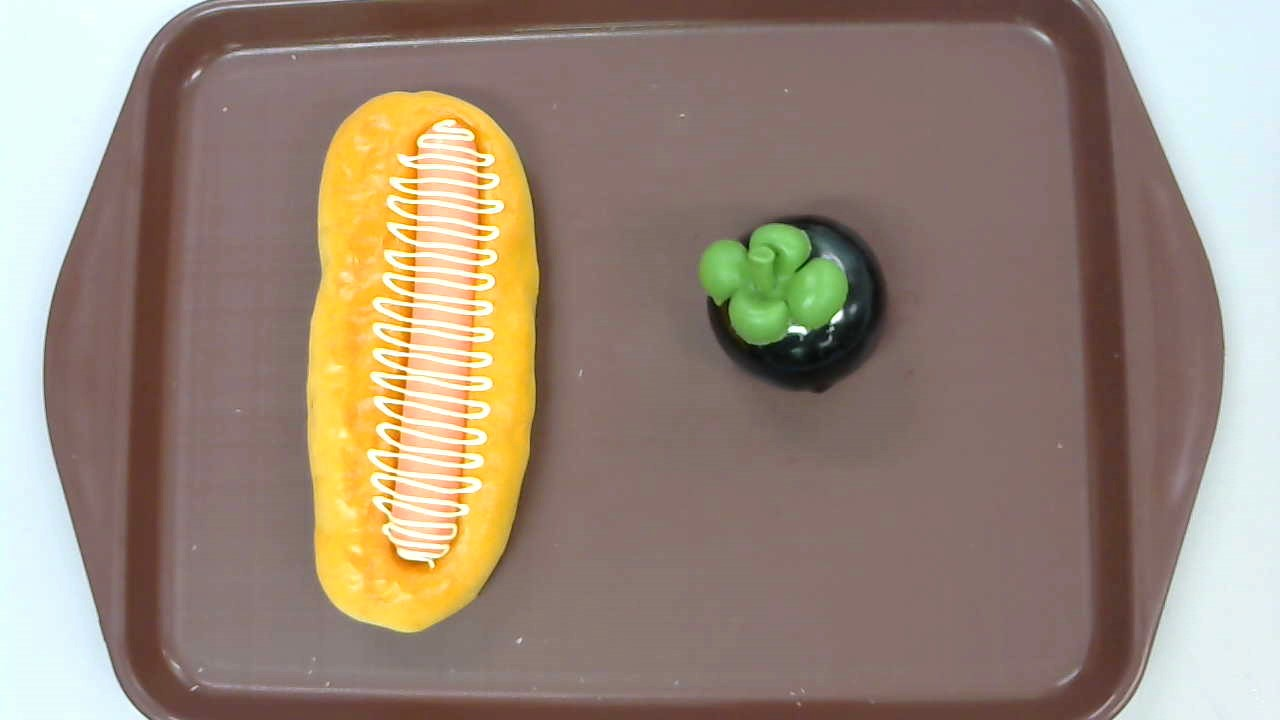hot dog: (305, 89, 540, 634)
mangosteen: (697, 216, 889, 396)
